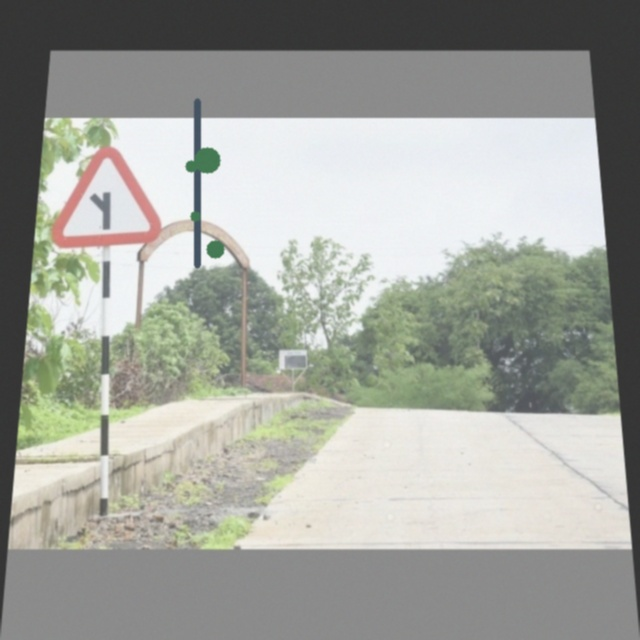Y_Intersection: (52, 145, 168, 249)
